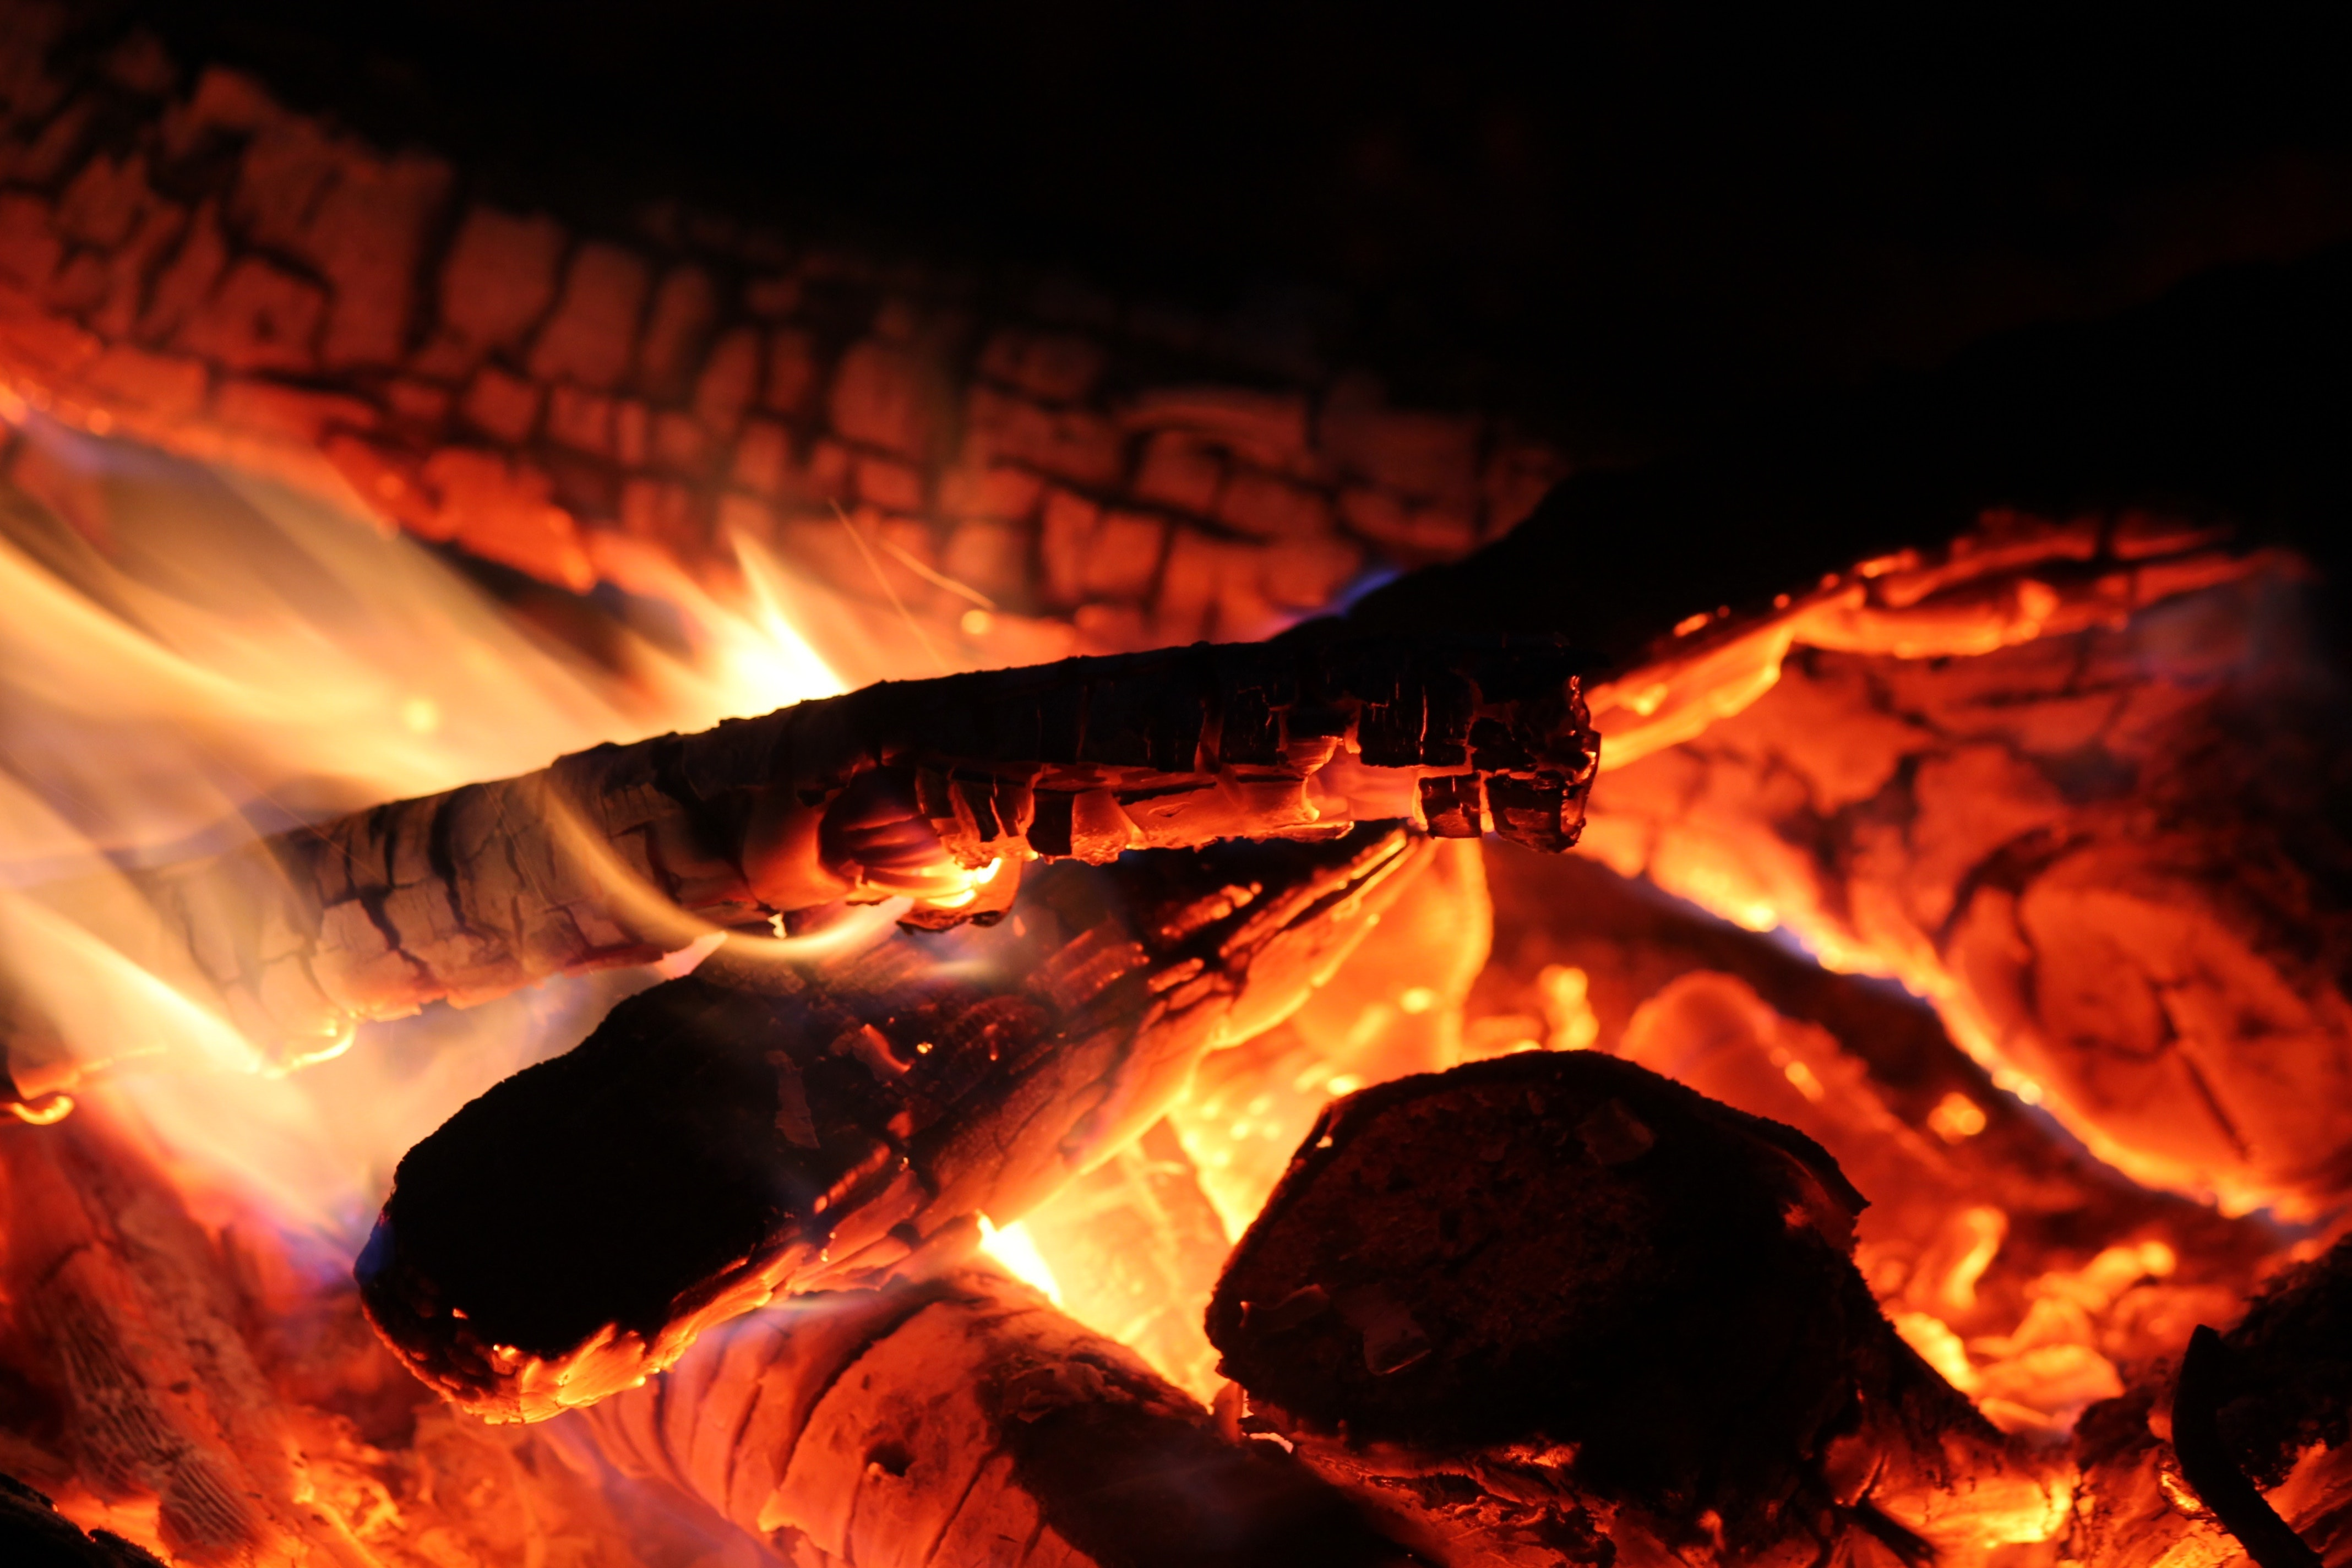fire: (672, 530, 849, 723)
